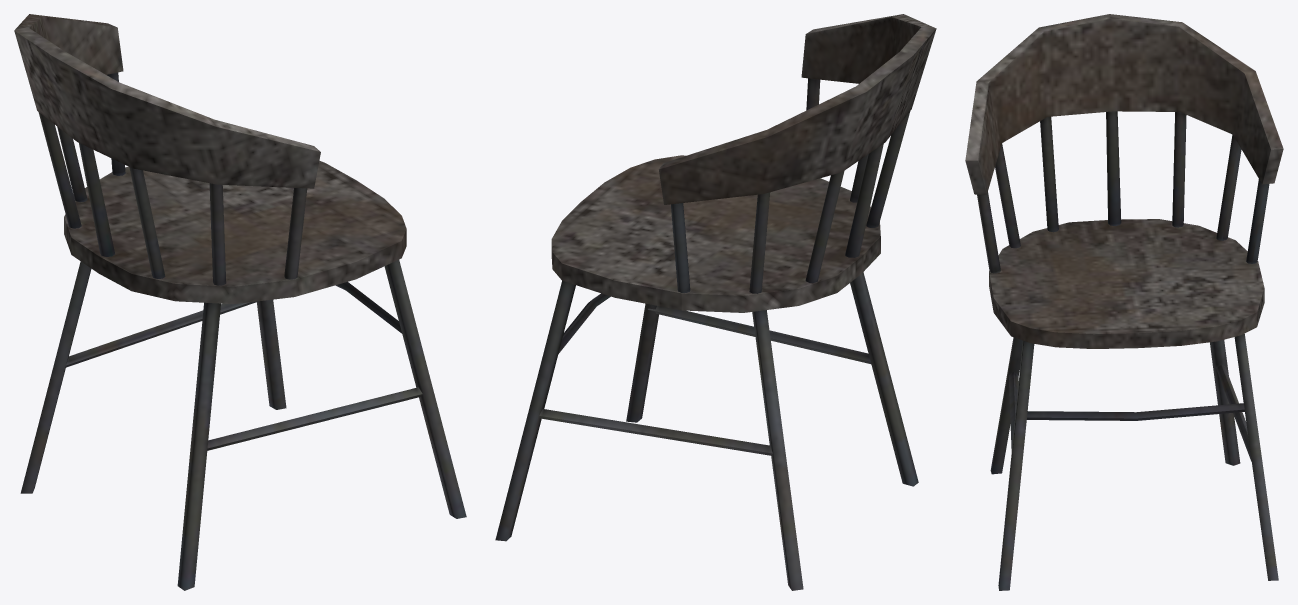
Rendered from FancyChair.FBX.
3 views of the same model, side by side, from view 1: azimuth 30°, elevation 25°; view 2: azimuth 150°, elevation 25°; view 3: azimuth 270°, elevation 25° (orthographic). The views are drawn at different scales.
Visible parts, largest first — view 1: FancyChair; view 2: FancyChair; view 3: FancyChair.
Part boxes in pixels (x1,y1,x2,y2): FancyChair: (14, 14, 466, 590); FancyChair: (495, 14, 936, 590); FancyChair: (965, 14, 1283, 590).
Bounding box in the file's own units: 72.52 × 98.97 × 66.29.
